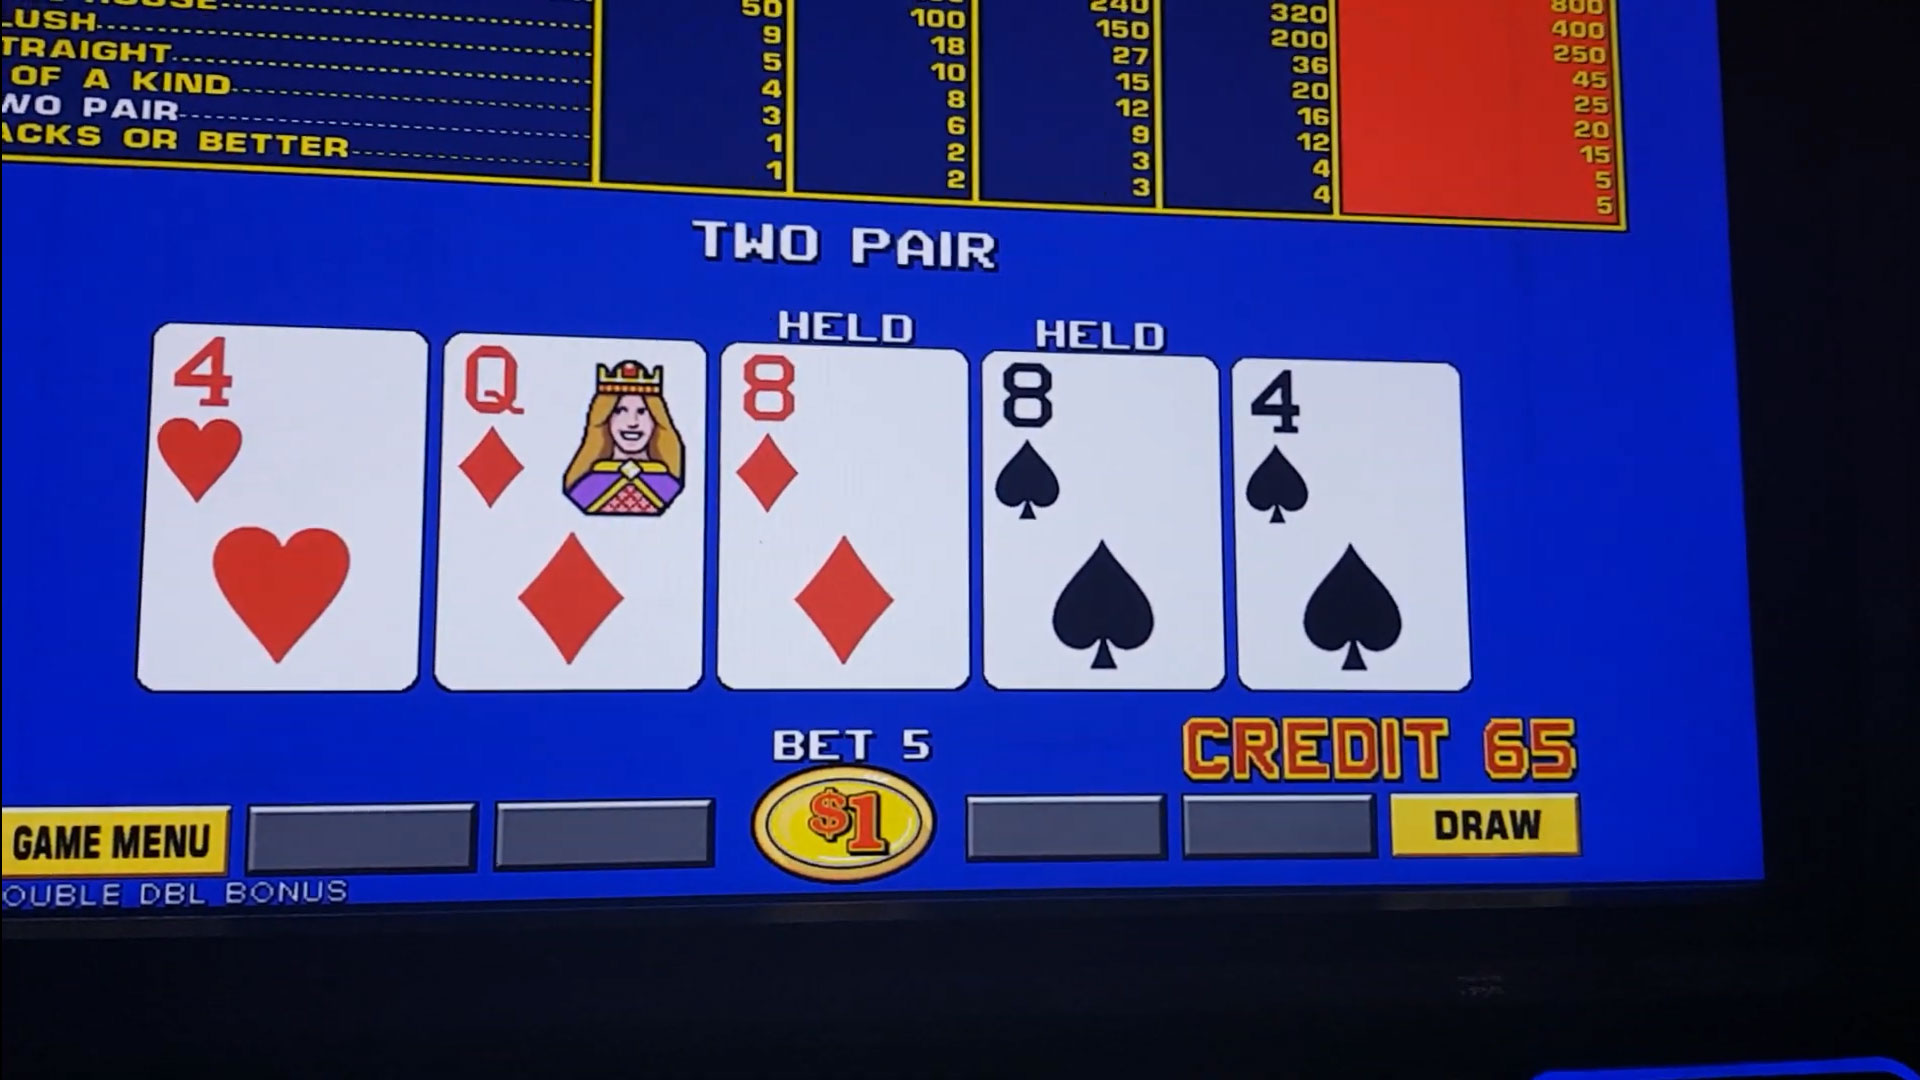D8: (727, 353, 960, 527)
DQ: (448, 347, 700, 520)
H4: (157, 339, 419, 520)
S4: (1238, 367, 1451, 530)
S8: (989, 367, 1213, 526)
